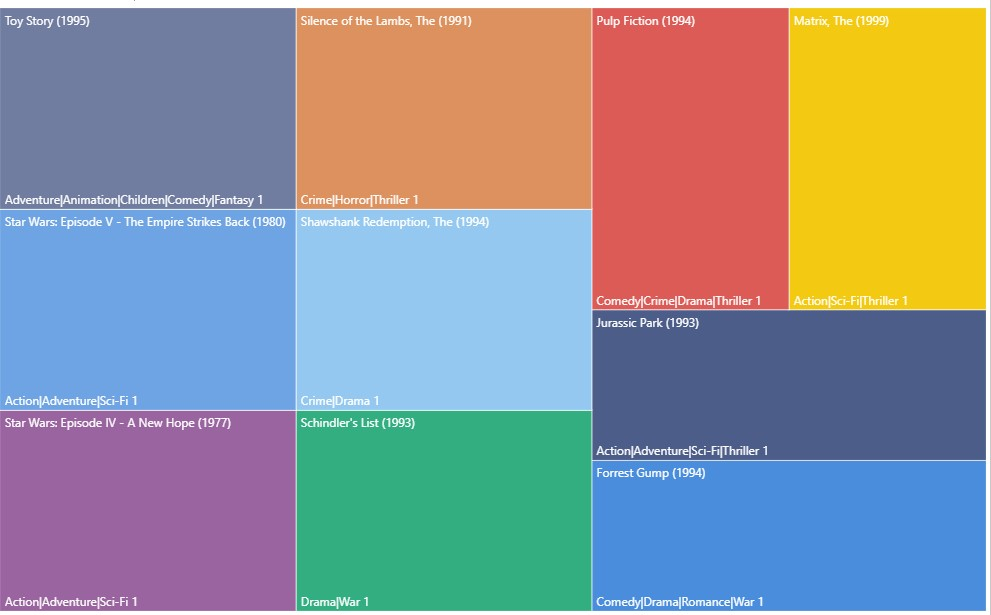

The page's visual inventory and layout, read from the dashboard file:
{"tool":"powerbi","page":{"name":"movies and genre ","canvas":[1280,720],"ordinal":4},"visuals":[{"type":"treemap","fields":{"Group":["movies.title"],"Values":["Count(movies.title)"],"Details":["movies.genres"]},"box":[10,0,280,280],"z":0}]}

Visuals, with their boxes on the page's 1280x720 design canvas (x1, y1, x2, y2). These are canvas units, not pixel positions in the 991x615 screenshot, which may show the page scaled, cropped or inside an application window:
treemap - movies.title x Count(movies.title): locate(10, 0, 290, 280)
